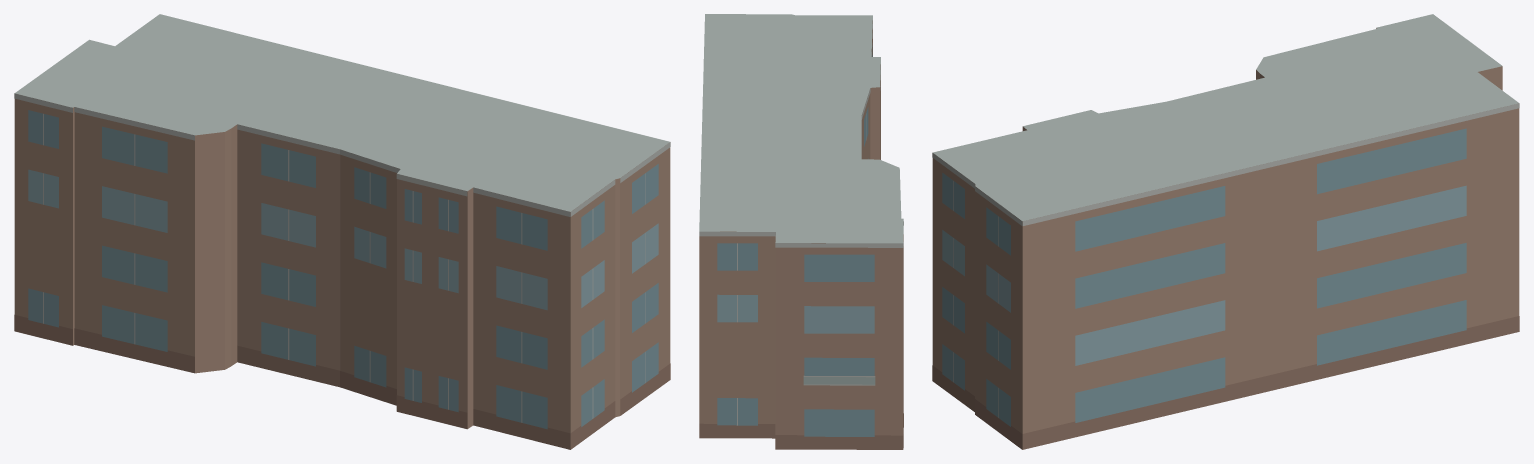
The model's file is survey-upis-32616472.glb.
3 renders of one model, left to right at view 1: azimuth 30°, elevation 25°; view 2: azimuth 150°, elevation 25°; view 3: azimuth 270°, elevation 25°, orthographic. The views are drawn at different scales.
Parts seen in each view (by area): view 1: survey-upis-32616472.tmp; view 2: survey-upis-32616472.tmp; view 3: survey-upis-32616472.tmp.
Boxes of the visible parts, bbox=[...] form: survey-upis-32616472.tmp: bbox=[14, 14, 670, 449]; survey-upis-32616472.tmp: bbox=[699, 14, 903, 449]; survey-upis-32616472.tmp: bbox=[932, 14, 1519, 449].
Bounding box in the file's own units: 21.6 × 11.1 × 25.84.
